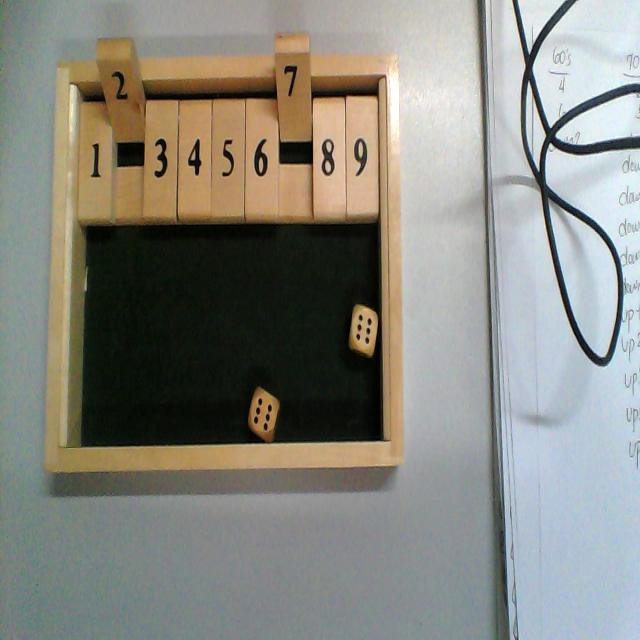6: (243, 379, 285, 449), (347, 296, 381, 369)
O2: (95, 36, 143, 222)
O7: (275, 33, 312, 220)
